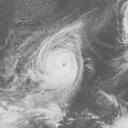cyclone: (27, 25, 84, 97)
